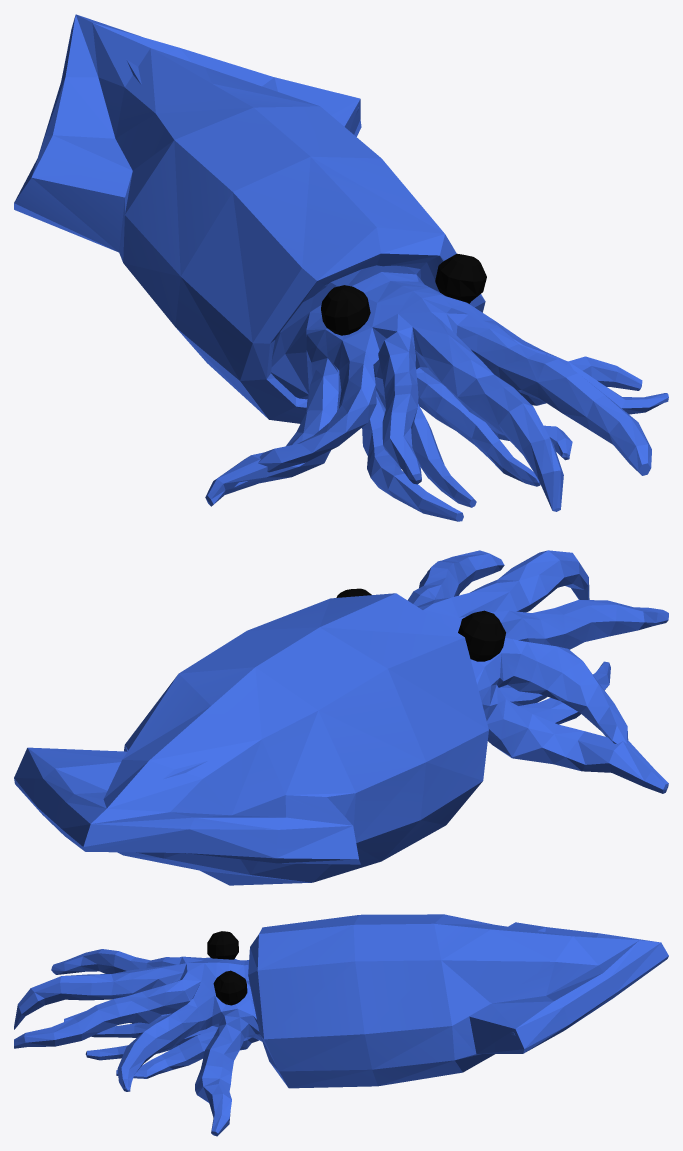
File: Cuttlefish.glb
3 views of the same model, one above another, from view 1: azimuth 30°, elevation 25°; view 2: azimuth 150°, elevation 25°; view 3: azimuth 270°, elevation 25° (orthographic). The views are drawn at different scales.
Visible parts, largest first — view 1: Cuttlefish; view 2: Cuttlefish; view 3: Cuttlefish.
Part boxes in pixels (x1,y1,x2,y2): Cuttlefish: (14,14,668,521); Cuttlefish: (14,550,668,885); Cuttlefish: (14,914,668,1136).
Size of the model in its own units: 0.5273 by 0.2705 by 1.
